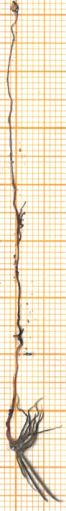flower: (0, 394, 60, 510)
root: (0, 0, 38, 354)
stem: (0, 356, 25, 438)
